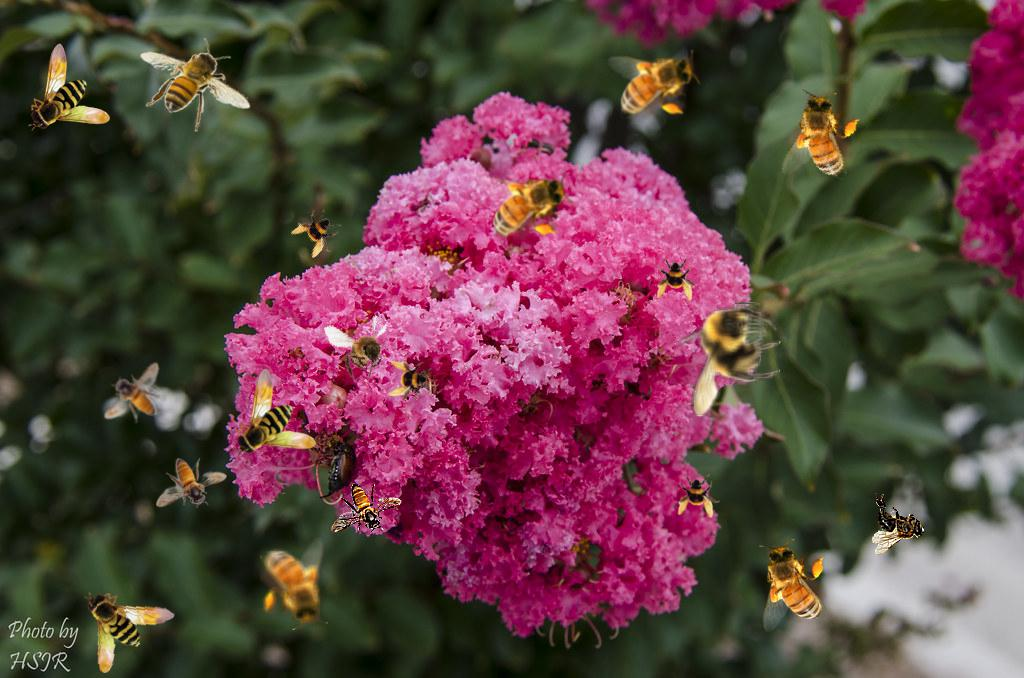Bee: (674, 302, 781, 417), (140, 38, 251, 132), (775, 83, 869, 192), (83, 583, 181, 675), (323, 305, 406, 393), (234, 368, 316, 456), (28, 43, 110, 131), (477, 169, 575, 242), (606, 48, 702, 121), (91, 360, 177, 435), (260, 537, 328, 630), (759, 539, 827, 632), (286, 201, 350, 265), (331, 483, 402, 533), (156, 458, 227, 508), (872, 493, 925, 555), (388, 359, 432, 403), (655, 257, 699, 301), (676, 474, 720, 518)
